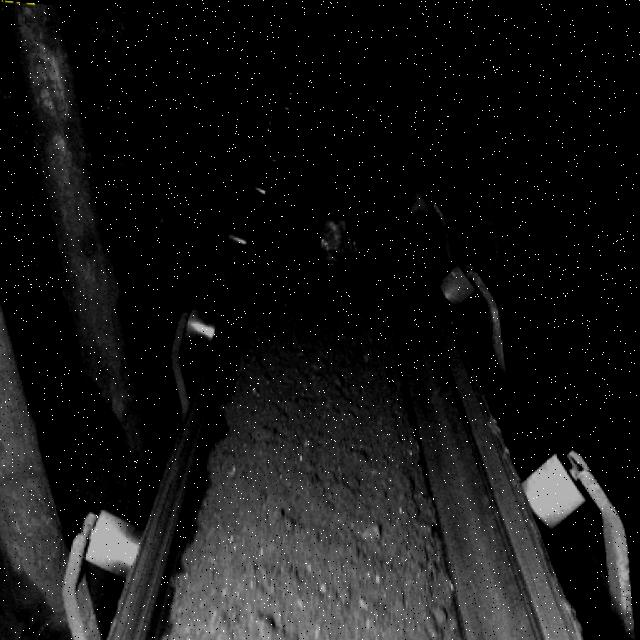large_sized_coal: (322, 198, 359, 266)
